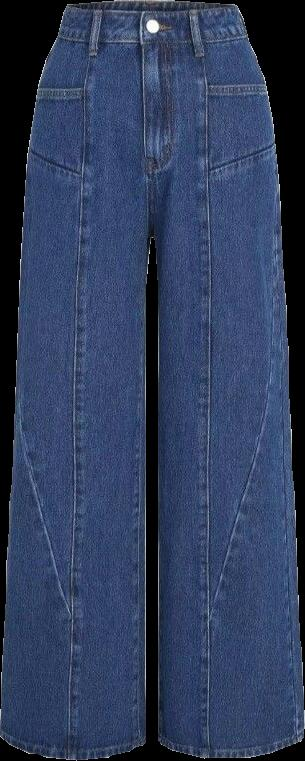Hemline: (0, 729, 149, 760), (157, 731, 304, 760)
Pantleg: (143, 0, 303, 756), (0, 1, 153, 758)
Waistline: (53, 32, 249, 49), (63, 1, 237, 16)
